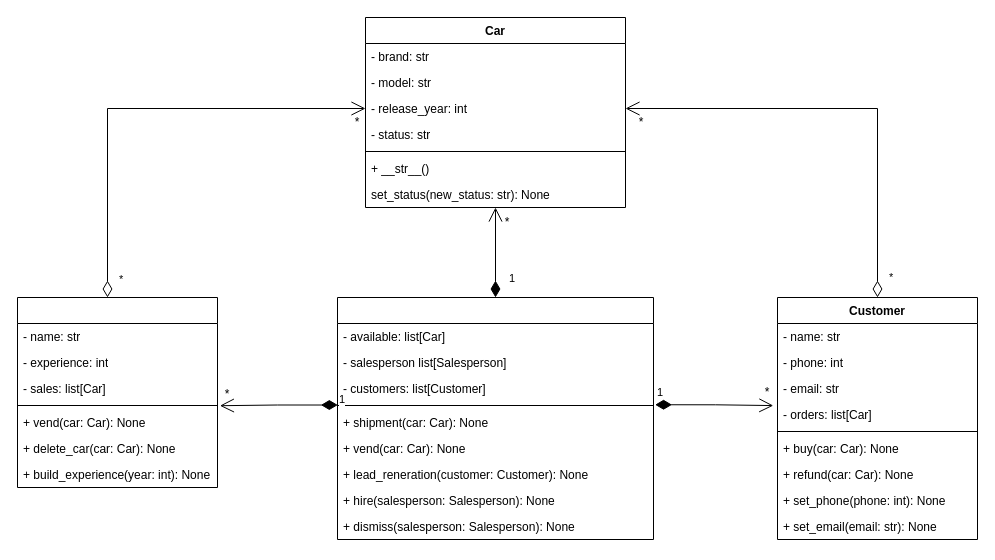
This 995x560 diagram has some shape labels left out. Here are the shapes that lost their labels. From the top down, the box of each, then its label:
(16, 296, 218, 488): Salesperson
(336, 296, 654, 540): Dealership
